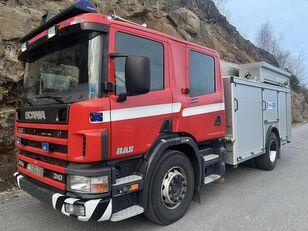Fire-engine: (16, 8, 298, 215)
